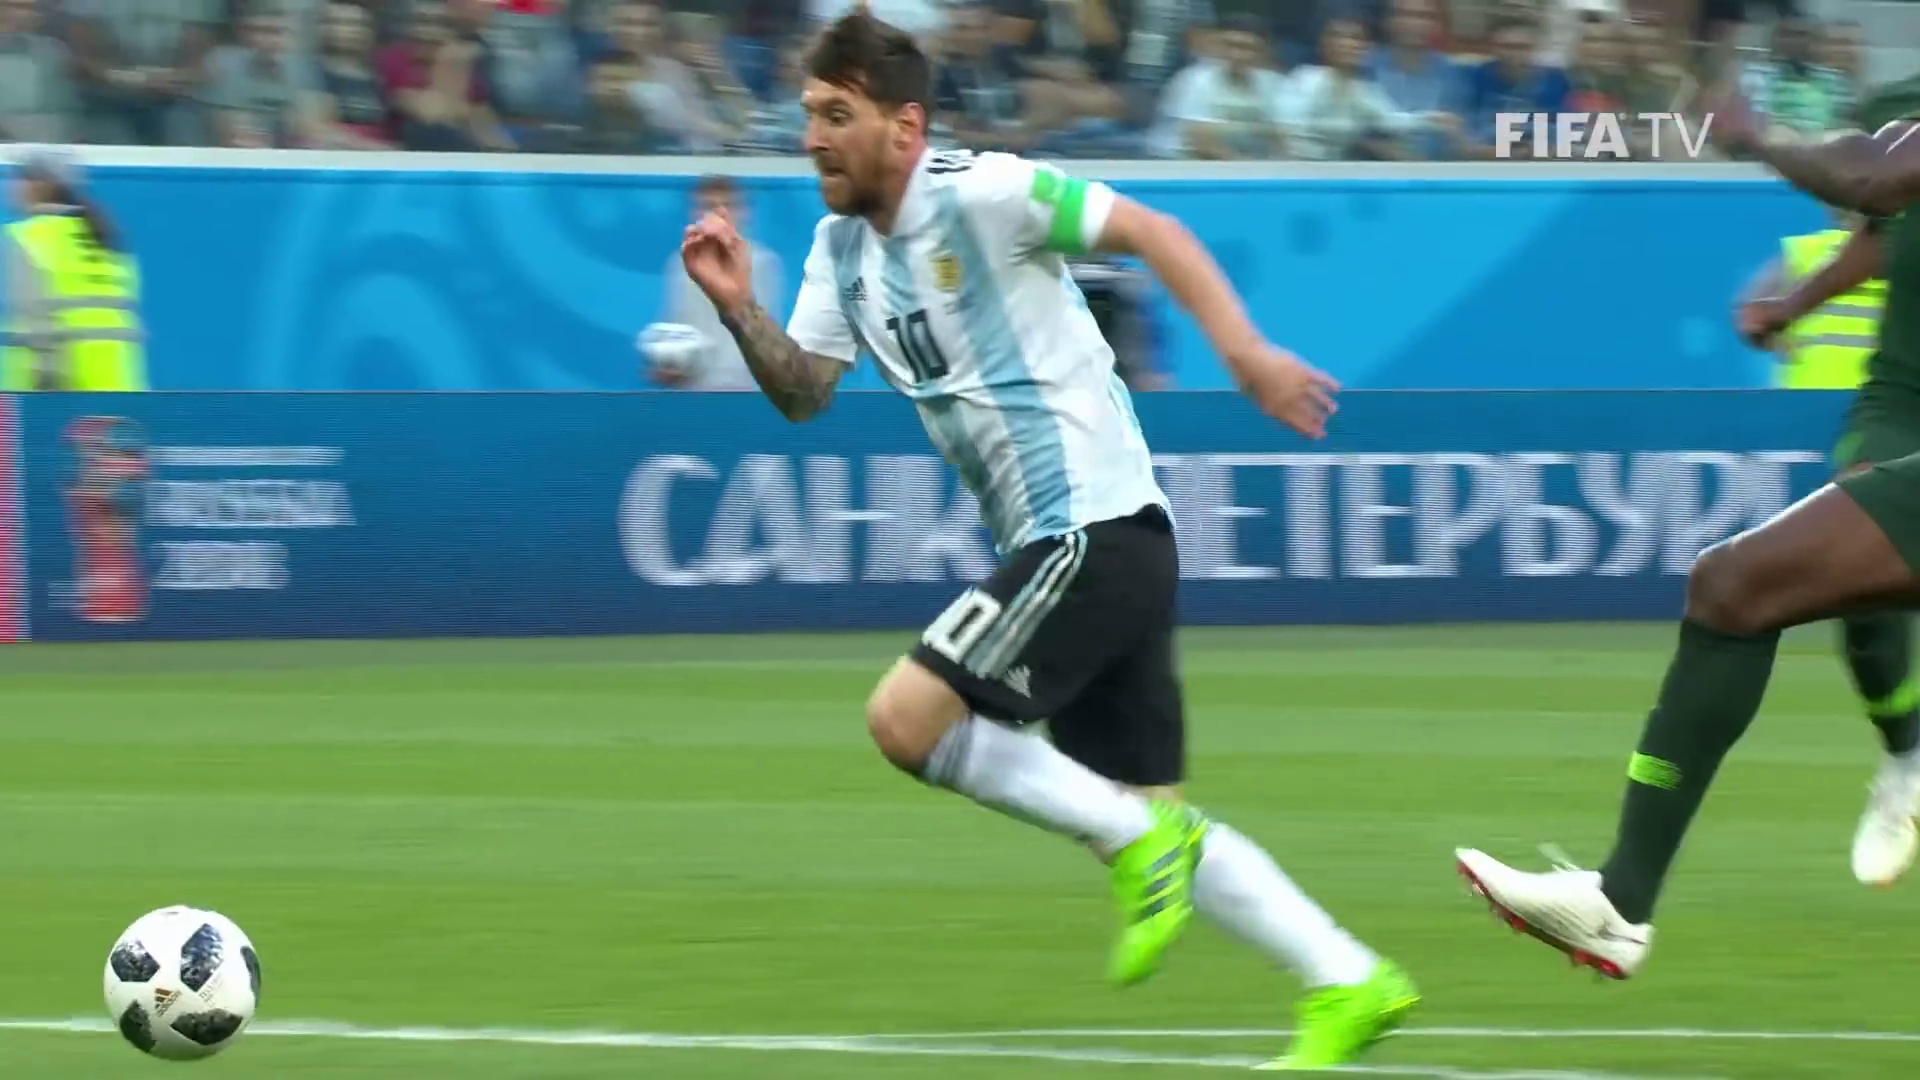ball: (103, 906, 259, 1065)
person: (675, 10, 1422, 1078)
